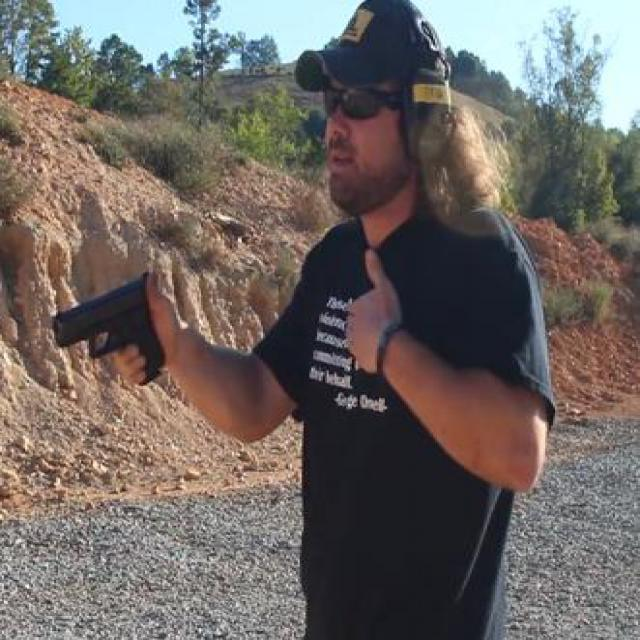Gun: (46, 269, 166, 383)
